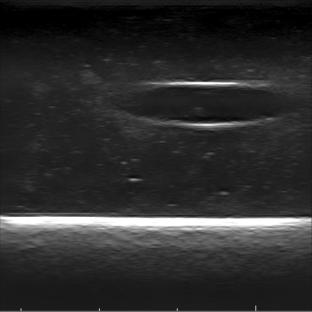vessel: (131, 80, 281, 130)
